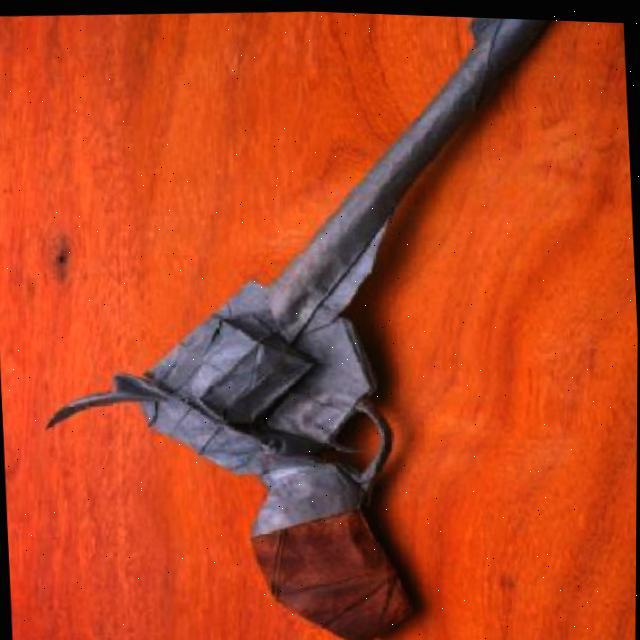gun: (18, 1, 596, 640)
